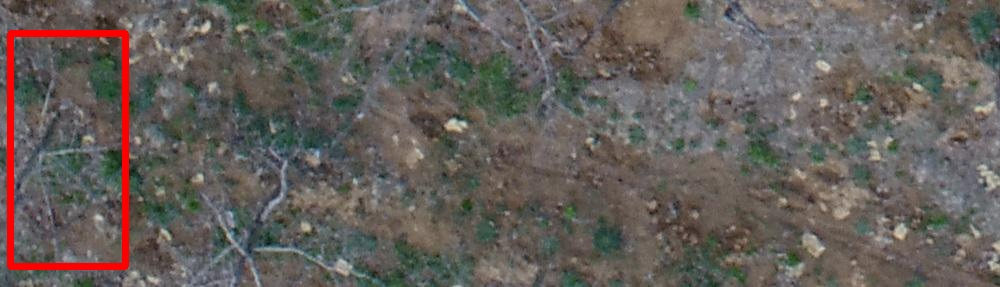apple: (10, 33, 125, 266)
